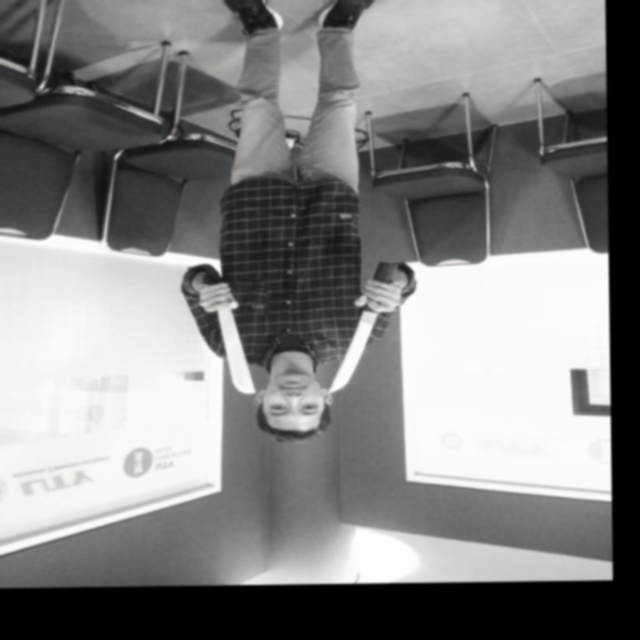Sharp-Object: (324, 259, 400, 395), (196, 270, 260, 397)
